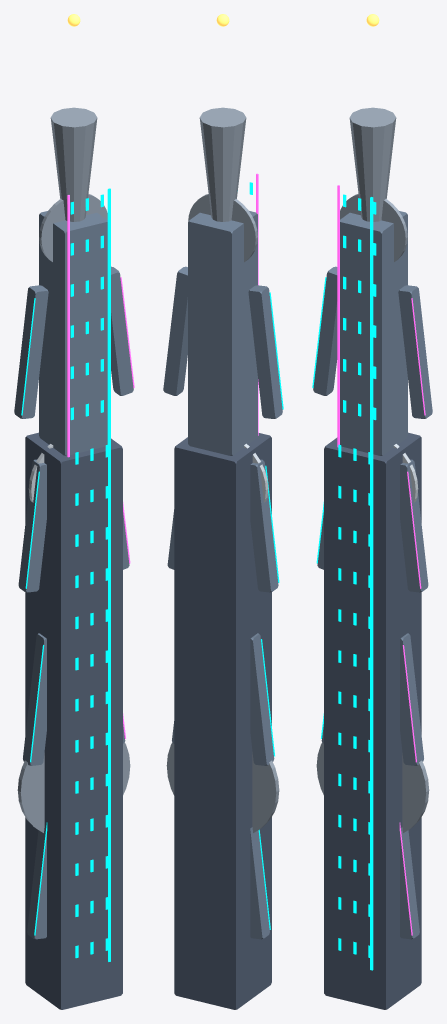
Rendered from neon_spire.glb.
3 renders of one model, left to right at view 1: azimuth 30°, elevation 25°; view 2: azimuth 150°, elevation 25°; view 3: azimuth 330°, elevation 25°, orthographic.
Visible parts, largest first — view 1: Obsidian_cladding, Blue_titanium_facade, Brushed_alloy, Cyan_lightguide, Magenta_lightguide, Edge_titanium; view 2: Obsidian_cladding, Blue_titanium_facade, Brushed_alloy, Cyan_lightguide; view 3: Obsidian_cladding, Blue_titanium_facade, Brushed_alloy, Cyan_lightguide, Magenta_lightguide, Edge_titanium.
Part boxes in pixels (box(x1,y1,x2,y2)): Obsidian_cladding: box(25, 432, 122, 1009); Blue_titanium_facade: box(14, 211, 133, 939); Brushed_alloy: box(17, 107, 130, 832); Cyan_lightguide: box(21, 188, 110, 961); Magenta_lightguide: box(67, 195, 134, 738); Edge_titanium: box(28, 444, 53, 502); Obsidian_cladding: box(174, 433, 271, 1009); Blue_titanium_facade: box(163, 211, 282, 939); Brushed_alloy: box(166, 107, 279, 832); Cyan_lightguide: box(249, 182, 283, 929); Obsidian_cladding: box(324, 432, 421, 1009); Blue_titanium_facade: box(313, 211, 432, 939); Brushed_alloy: box(316, 107, 429, 832); Cyan_lightguide: box(312, 194, 376, 970); Magenta_lightguide: box(337, 185, 425, 935); Edge_titanium: box(393, 444, 418, 502).
Bounding box in the file's own units: 4.75 × 39.13 × 2.66.
7 materials, 7 textured.
